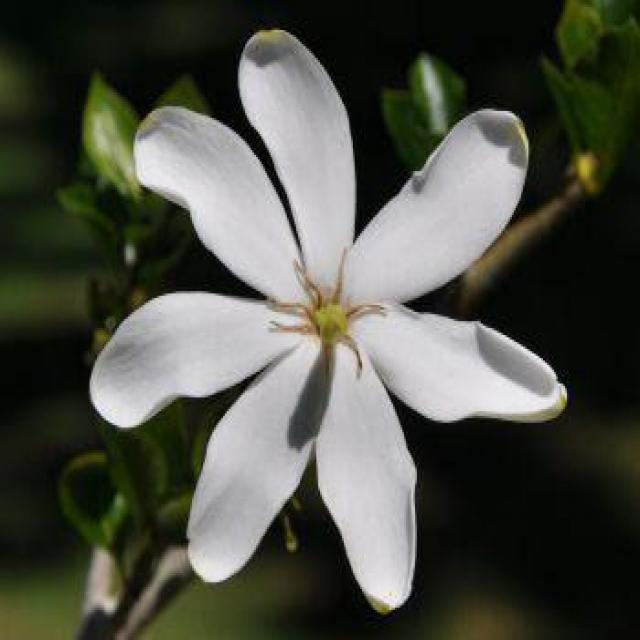organic waste: (78, 25, 580, 617)
